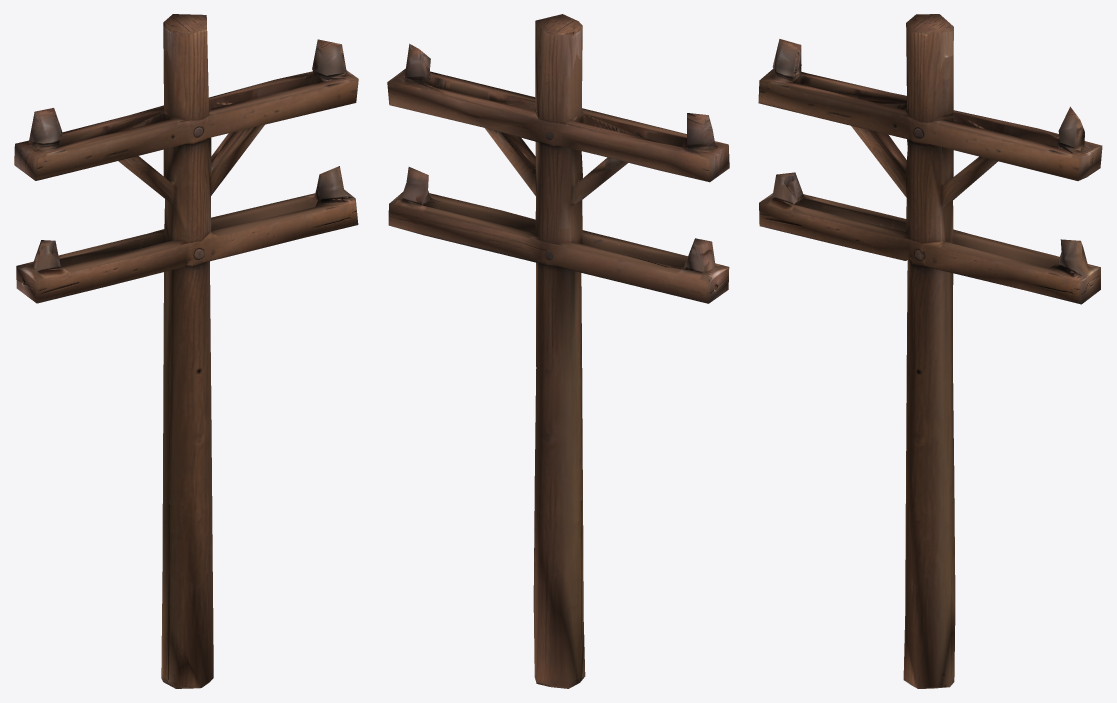
File: Timeless_Transmission_1121023547_texture.fbx
3 views of the same model, side by side, from view 1: azimuth 30°, elevation 25°; view 2: azimuth 150°, elevation 25°; view 3: azimuth 330°, elevation 25° (orthographic).
Visible parts, largest first — view 1: input; view 2: input; view 3: input.
Part boxes in pixels (left/top/right/bottom): input: left=14, top=14, right=358, bottom=688; input: left=387, top=14, right=729, bottom=688; input: left=758, top=14, right=1102, bottom=688.
Size of the model in its own units: 104 by 201 by 14.56.
1 material, 1 textured.
